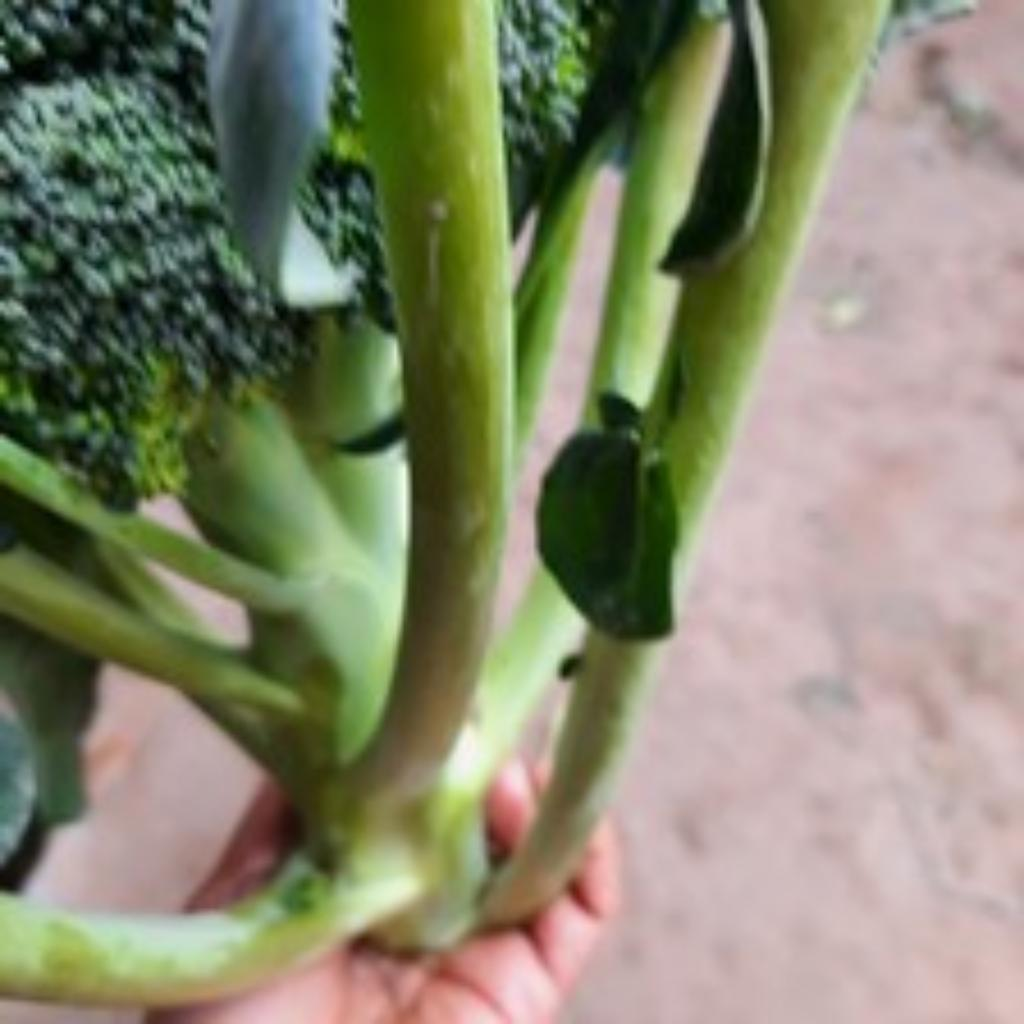Broccoli: (0, 0, 294, 505), (0, 0, 290, 503), (302, 16, 390, 318), (302, 16, 388, 315), (500, 0, 610, 217), (500, 0, 588, 184)
